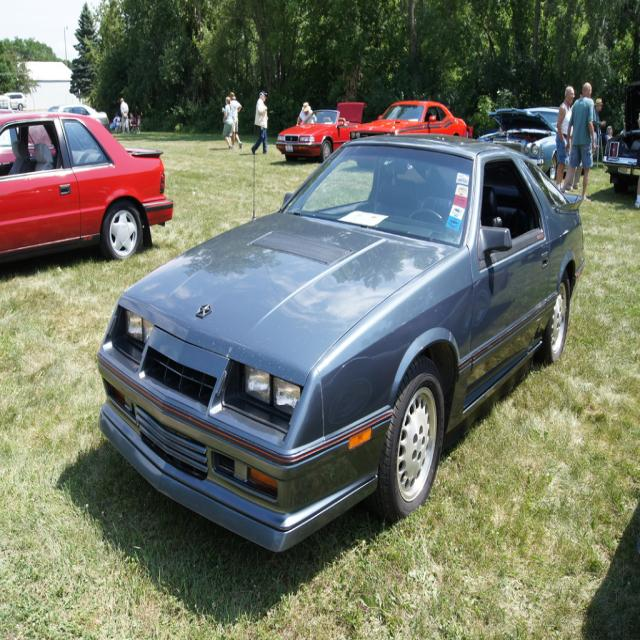car: (85, 123, 583, 548)
